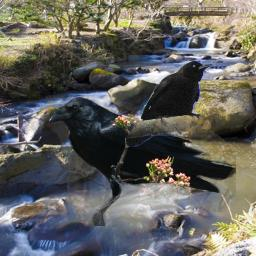Crow: (41, 95, 236, 226), (125, 61, 213, 147)
